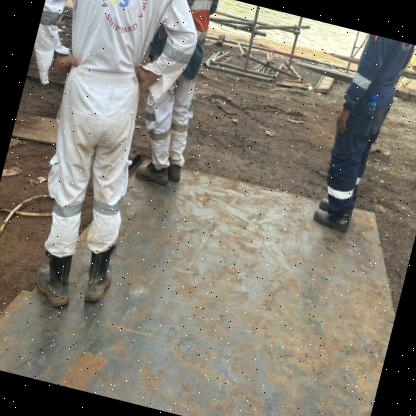bota: (28, 244, 82, 312), (75, 241, 124, 303), (310, 204, 353, 235), (132, 159, 170, 190), (162, 158, 187, 187)
